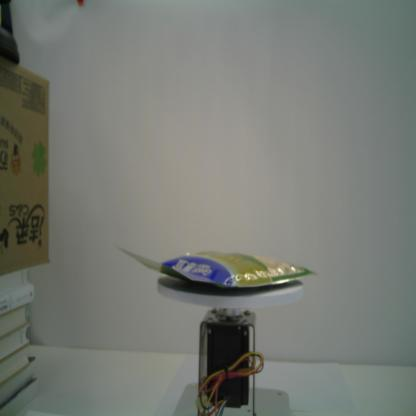Dried Fruit: (112, 243, 319, 292)
